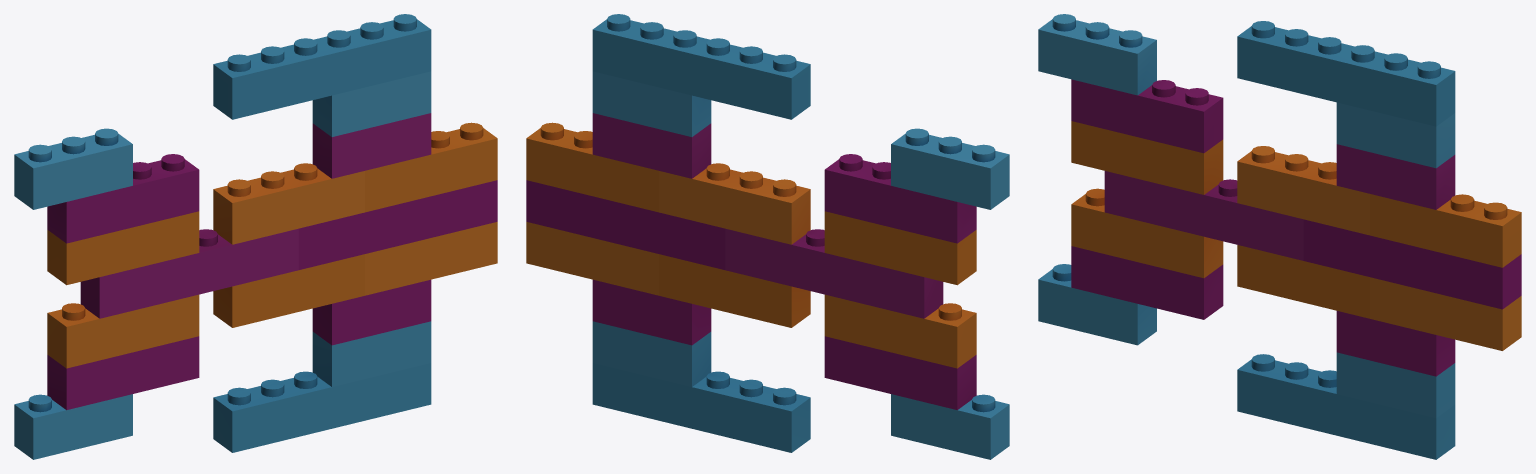
File: fishnew.fbx
3 views of the same model, side by side, from view 1: azimuth 30°, elevation 25°; view 2: azimuth 150°, elevation 25°; view 3: azimuth 330°, elevation 25° (orthographic).
Parts seen in each view (by area): view 1: Lod_0Brick_16_Transform, Lod_0Brick_1_Transform, Lod_0Brick_7_Transform, Lod_0Brick_5_Transform, Lod_0Brick_8_Transform, Lod_0Brick_10_Transform, Lod_0Brick_11_Transform, Lod_0Brick_17_Transform, Lod_0Brick_13_Transform, Lod_0Brick_9_Transform, Lod_0Brick_12_Transform, Lod_0Brick_6_Transform (+6 smaller); view 2: Lod_0Brick_16_Transform, Lod_0Brick_1_Transform, Lod_0Brick_7_Transform, Lod_0Brick_5_Transform, Lod_0Brick_8_Transform, Lod_0Brick_10_Transform, Lod_0Brick_11_Transform, Lod_0Brick_17_Transform, Lod_0Brick_13_Transform, Lod_0Brick_9_Transform, Lod_0Brick_12_Transform, Lod_0Brick_6_Transform (+6 smaller); view 3: Lod_0Brick_16_Transform, Lod_0Brick_1_Transform, Lod_0Brick_5_Transform, Lod_0Brick_7_Transform, Lod_0Brick_10_Transform, Lod_0Brick_13_Transform, Lod_0Brick_8_Transform, Lod_0Brick_17_Transform, Lod_0Brick_11_Transform, Lod_0Brick_12_Transform, Lod_0Brick_9_Transform, Lod_0Brick_4_Transform (+6 smaller).
Part boxes in pixels (box(x1,y1,x2,y2)): Lod_0Brick_16_Transform: box(213, 14, 431, 119); Lod_0Brick_1_Transform: box(213, 363, 431, 452); Lod_0Brick_7_Transform: box(80, 228, 298, 318); Lod_0Brick_5_Transform: box(298, 180, 497, 269); Lod_0Brick_8_Transform: box(213, 163, 364, 244); Lod_0Brick_10_Transform: box(47, 154, 199, 243); Lod_0Brick_11_Transform: box(47, 294, 199, 368); Lod_0Brick_17_Transform: box(14, 128, 132, 209); Lod_0Brick_13_Transform: box(365, 122, 497, 212); Lod_0Brick_9_Transform: box(47, 211, 199, 285); Lod_0Brick_12_Transform: box(47, 336, 199, 410); Lod_0Brick_6_Transform: box(213, 254, 364, 327); Lod_0Brick_16_Transform: box(592, 14, 810, 119); Lod_0Brick_1_Transform: box(592, 363, 810, 452); Lod_0Brick_7_Transform: box(725, 228, 943, 318); Lod_0Brick_5_Transform: box(526, 180, 725, 269); Lod_0Brick_8_Transform: box(659, 163, 810, 244); Lod_0Brick_10_Transform: box(824, 154, 976, 243); Lod_0Brick_11_Transform: box(824, 294, 976, 368); Lod_0Brick_17_Transform: box(891, 128, 1009, 209); Lod_0Brick_13_Transform: box(526, 122, 658, 212); Lod_0Brick_9_Transform: box(824, 211, 976, 285); Lod_0Brick_12_Transform: box(824, 336, 976, 410); Lod_0Brick_6_Transform: box(659, 254, 810, 327); Lod_0Brick_16_Transform: box(1237, 21, 1455, 126); Lod_0Brick_1_Transform: box(1237, 354, 1455, 459); Lod_0Brick_5_Transform: box(1303, 219, 1521, 309); Lod_0Brick_7_Transform: box(1104, 171, 1303, 260); Lod_0Brick_10_Transform: box(1071, 79, 1223, 153); Lod_0Brick_13_Transform: box(1370, 194, 1521, 267); Lod_0Brick_8_Transform: box(1237, 146, 1369, 235); Lod_0Brick_17_Transform: box(1038, 14, 1156, 95); Lod_0Brick_11_Transform: box(1071, 188, 1223, 278); Lod_0Brick_12_Transform: box(1071, 246, 1223, 319); Lod_0Brick_9_Transform: box(1071, 121, 1223, 194); Lod_0Brick_4_Transform: box(1370, 277, 1521, 350).
Size of the model in its own units: 11.2 by 8.82 by 0.8.
